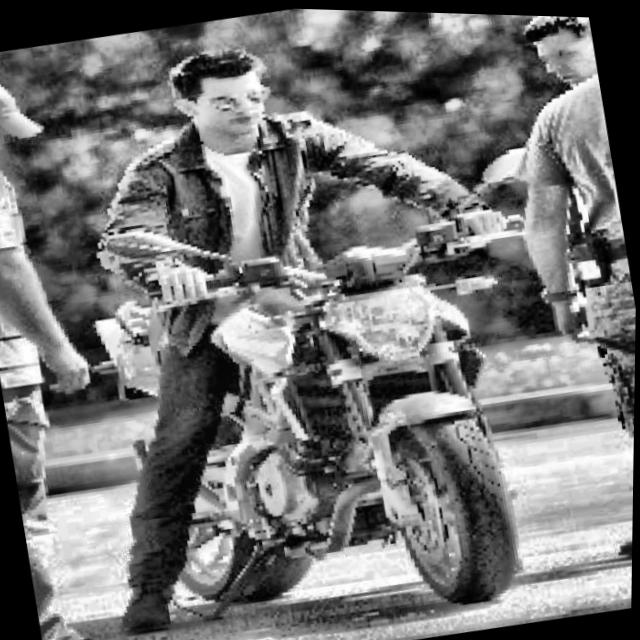motorcycle: (56, 129, 613, 640)
